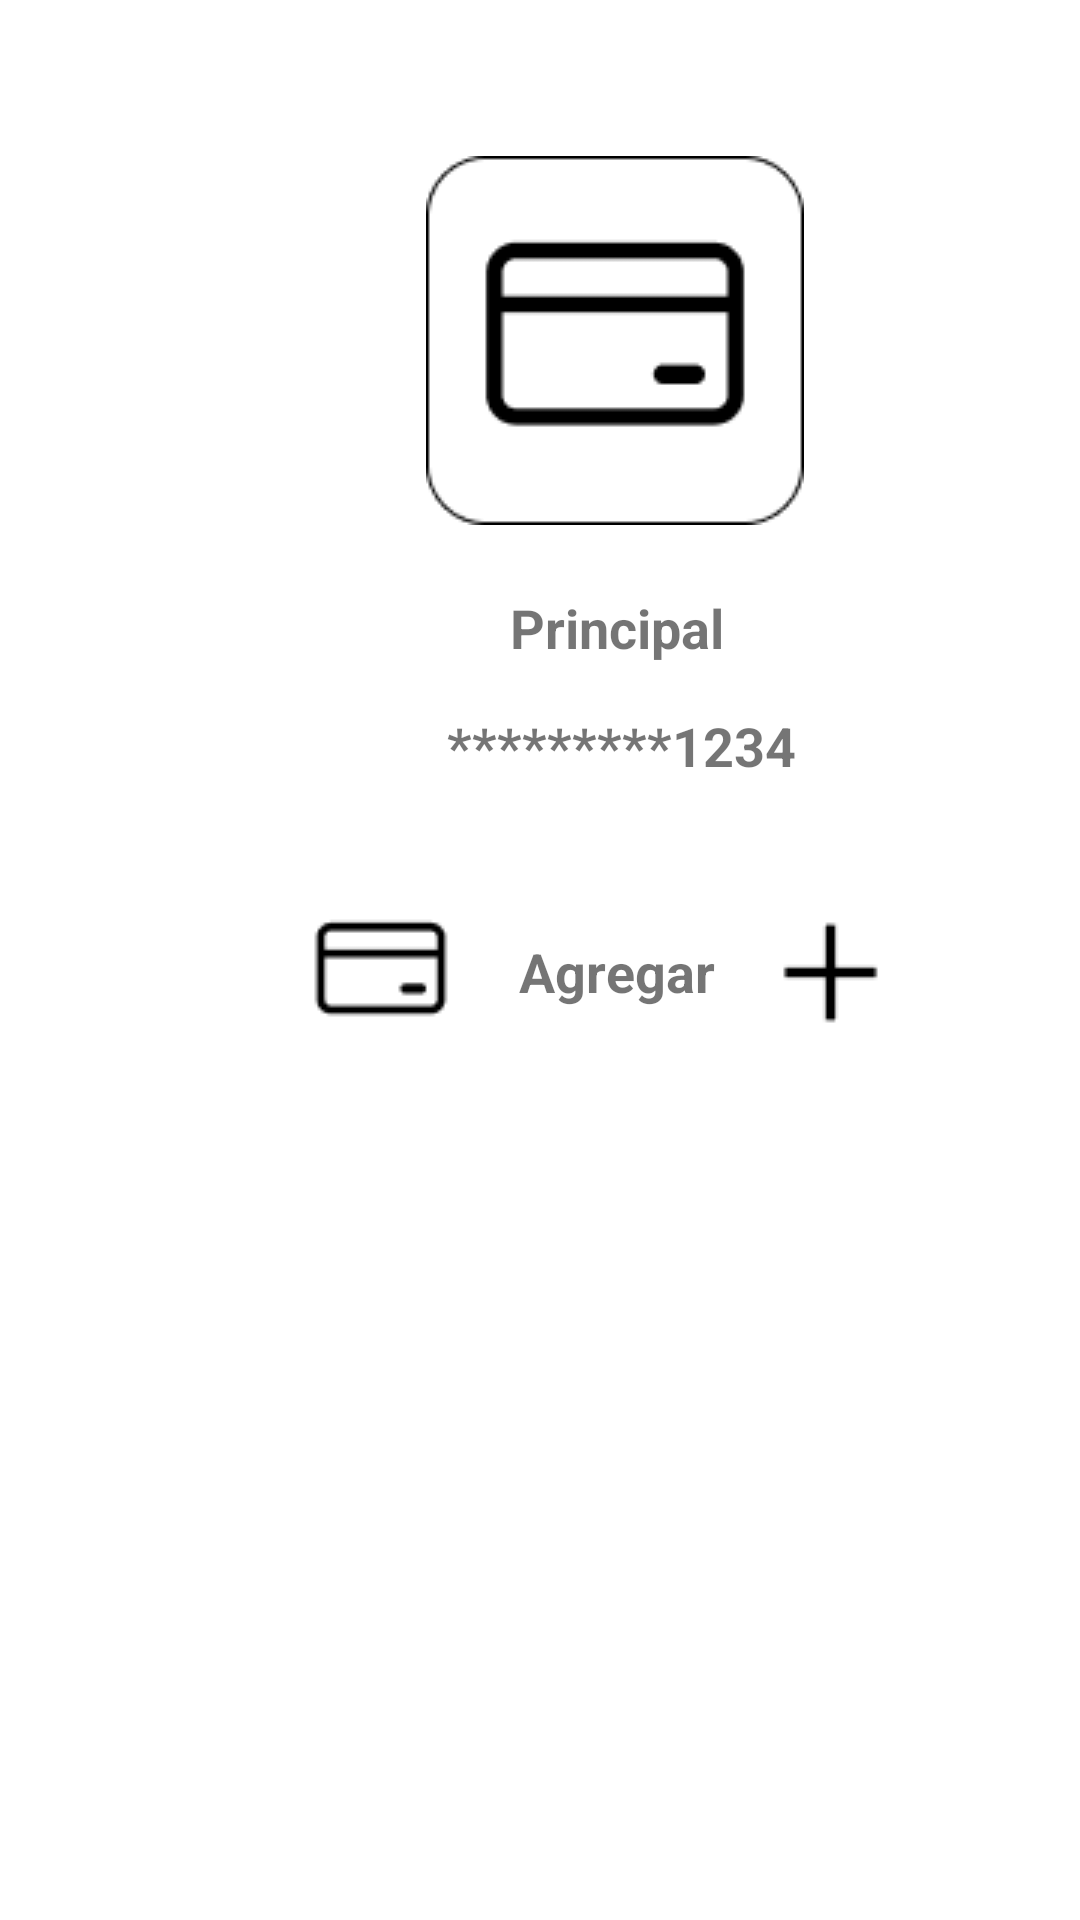

Screen size 1080px x 1920px. Icon name, then its center in pixels as point (x, y):
plus: point (830, 972)
